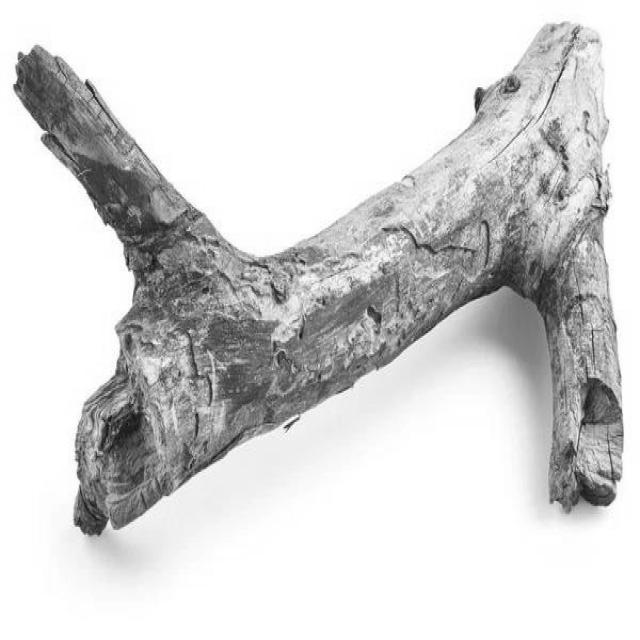Tree: (15, 24, 625, 535)
